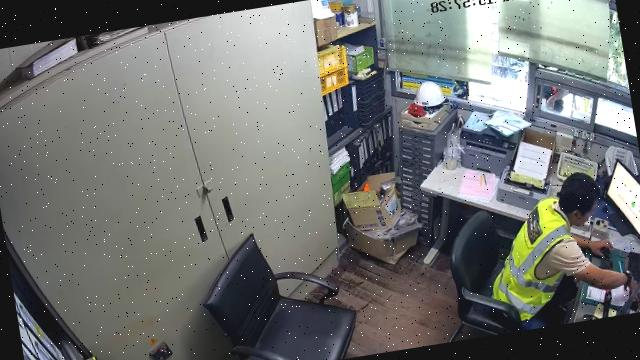Head: (557, 174, 601, 226)
People: (494, 174, 636, 330)
Phone: (589, 256, 613, 270)
